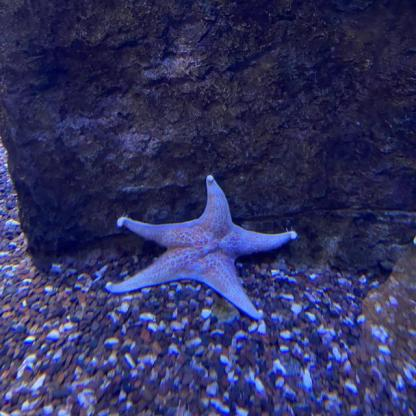starfish: (108, 174, 306, 318)
